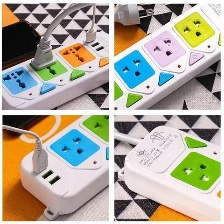three_eye_plug: (113, 0, 223, 109), (120, 124, 224, 223), (15, 112, 110, 217), (0, 24, 110, 109)
